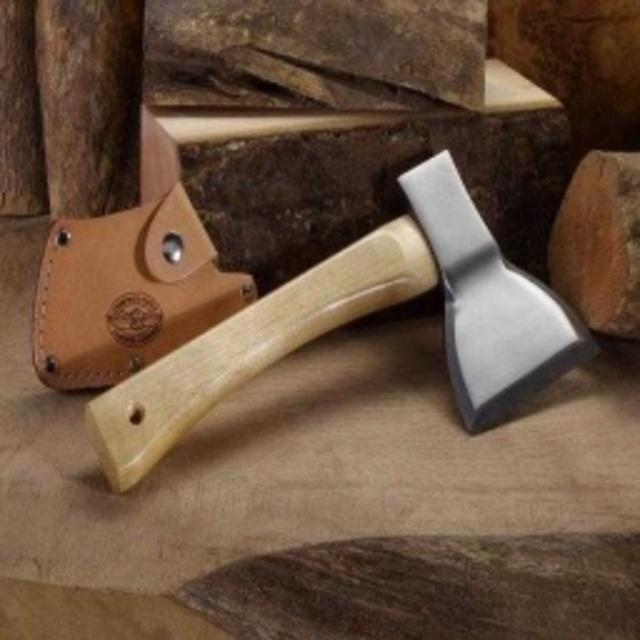ax: (79, 133, 610, 503)
